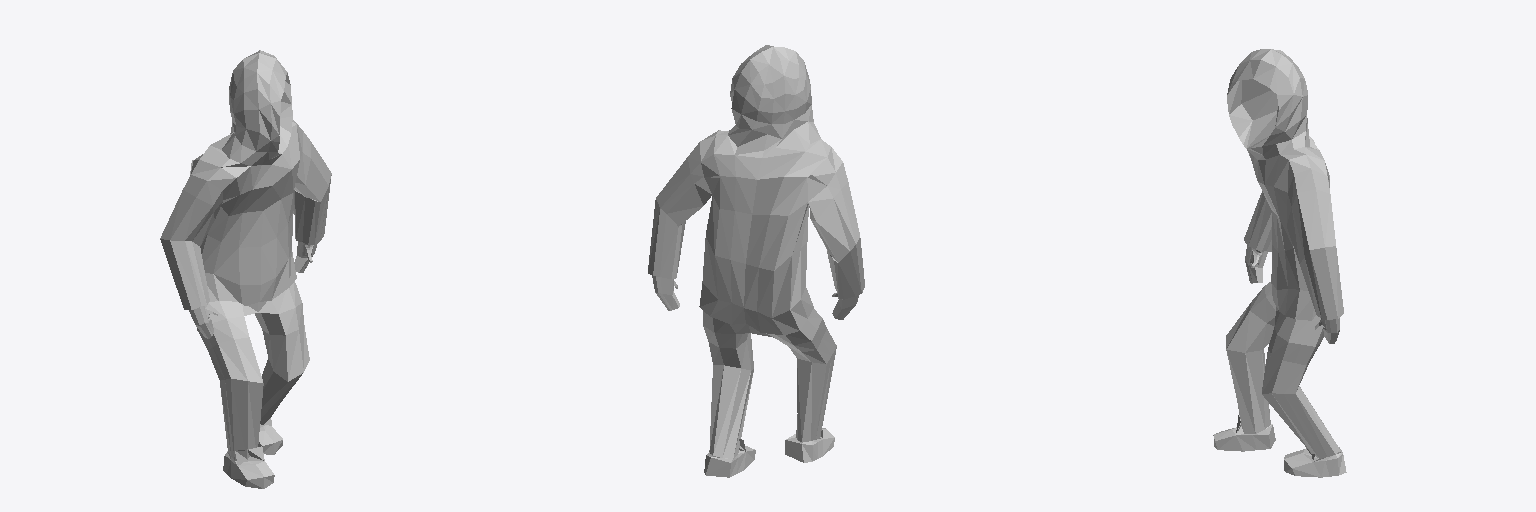
Rendered from Shadowmanv_000015.obj.
The picture shows the model from 3 angles: view 1: azimuth 30°, elevation 25°; view 2: azimuth 150°, elevation 25°; view 3: azimuth 270°, elevation 25°; orthographic projection.
Visible parts, largest first — view 1: Cube.000; view 2: Cube.000; view 3: Cube.000.
Part boxes in pixels (bbox=[...]): Cube.000: bbox=[160, 50, 331, 488]; Cube.000: bbox=[648, 45, 864, 477]; Cube.000: bbox=[1213, 49, 1346, 477].
Size of the model in its own units: 5.29 by 11.32 by 3.31.